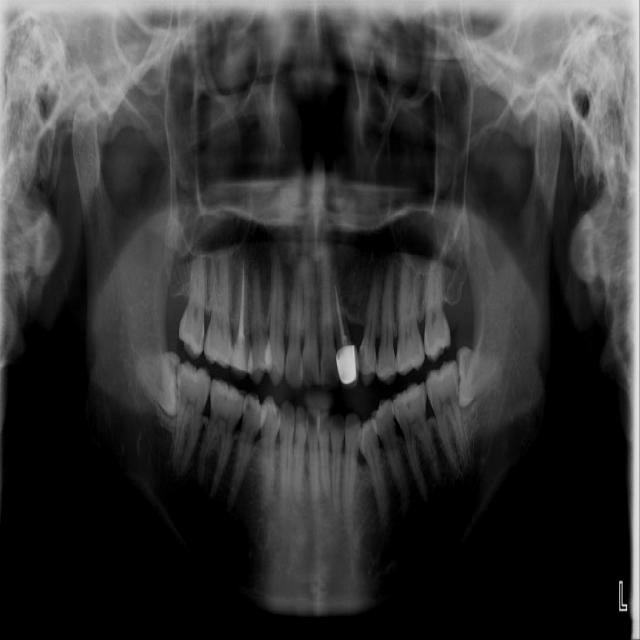Caries: (357, 351, 364, 374)
Root Canal Treatment: (333, 283, 349, 344), (239, 259, 245, 341)
impacted tooth: (129, 353, 179, 418), (456, 345, 505, 407)
